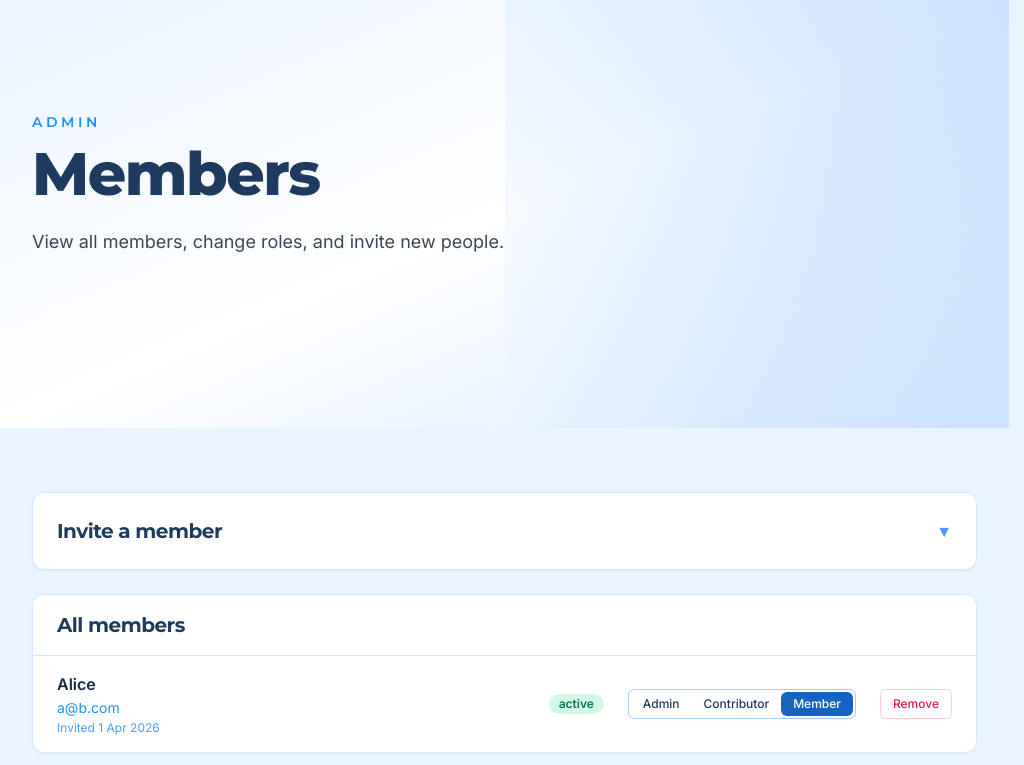
Test: MemberManagementView › shows a save error when setRole returns non-ok
Click the button "Admin".
click(661, 704)  # box [631,692,692,716]
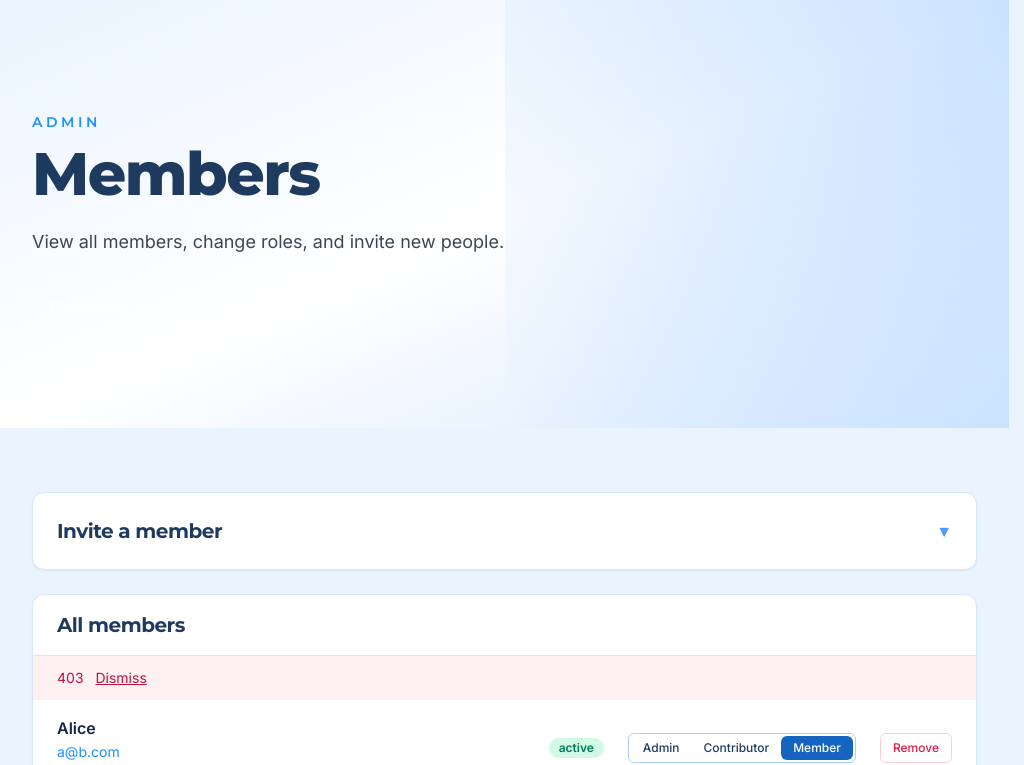
Now the text "403" is shown, box [57,669,88,686]
